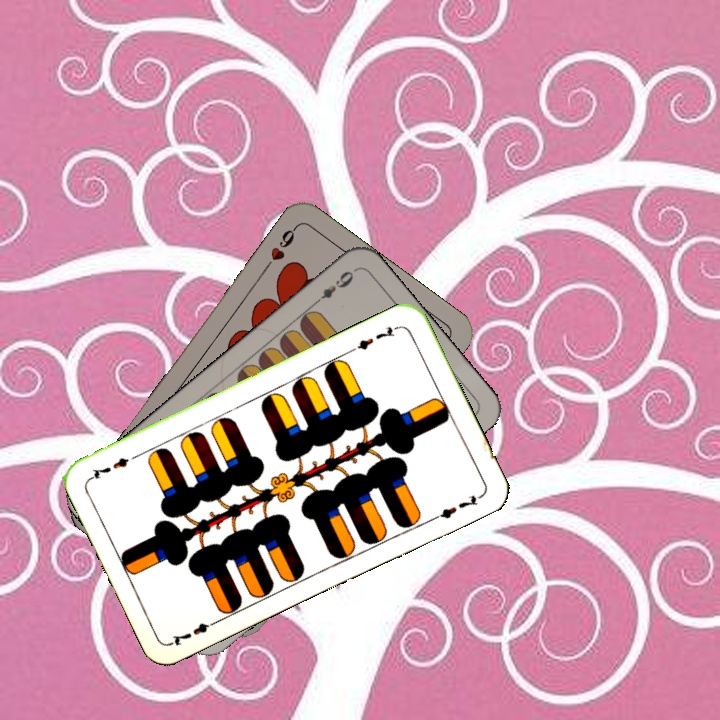E7: (167, 615, 223, 649), (348, 321, 403, 355)
E9: (309, 265, 358, 308)
H9: (259, 222, 300, 273)
